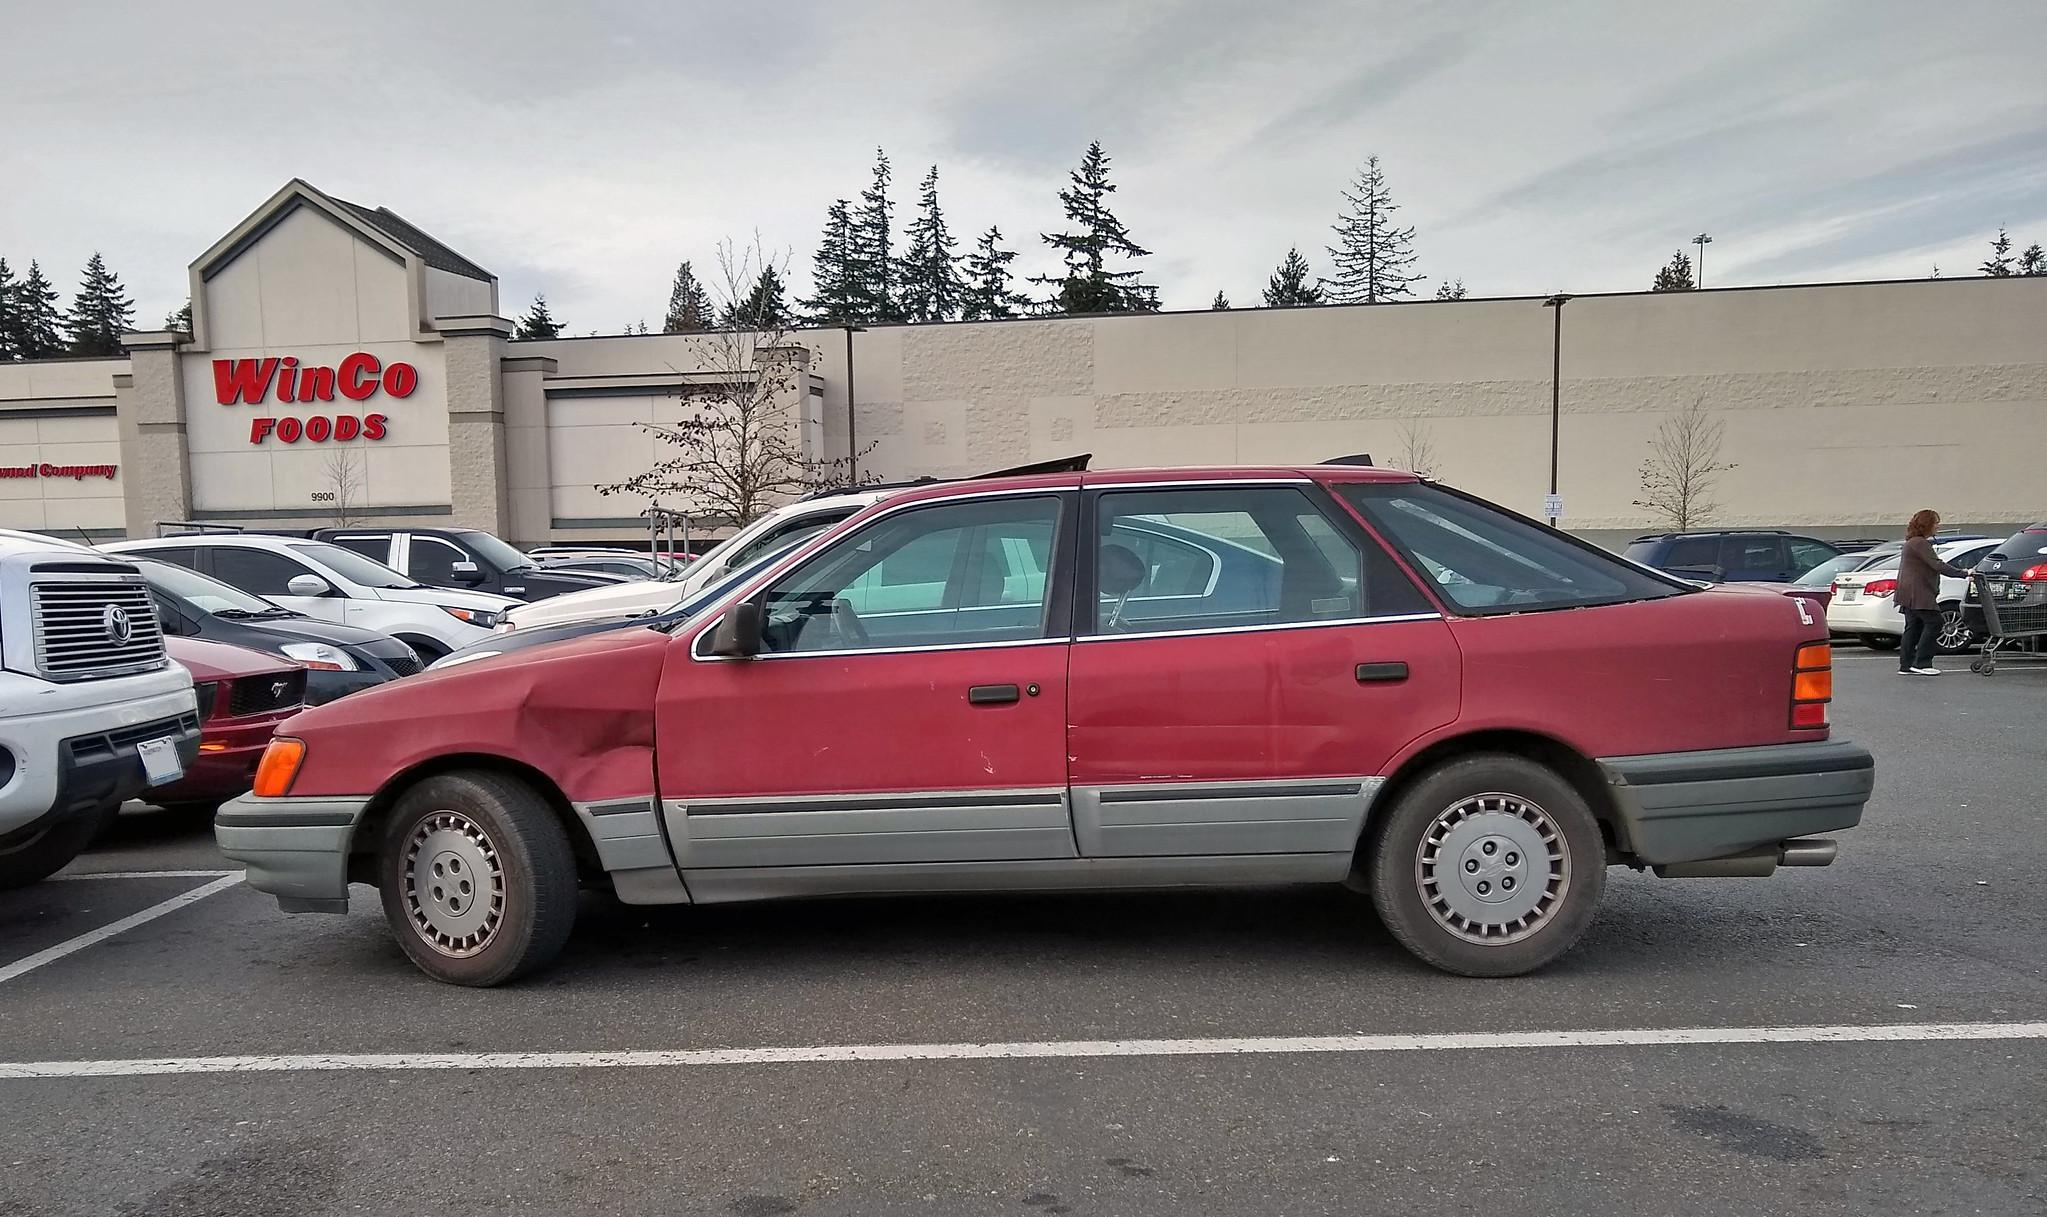doorouter-dent: (1078, 627, 1450, 882)
fender-dent: (335, 674, 697, 843)
